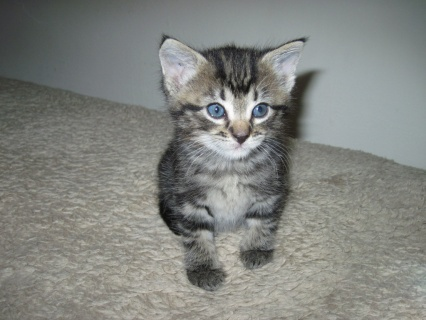Cat: (157, 38, 310, 294)
